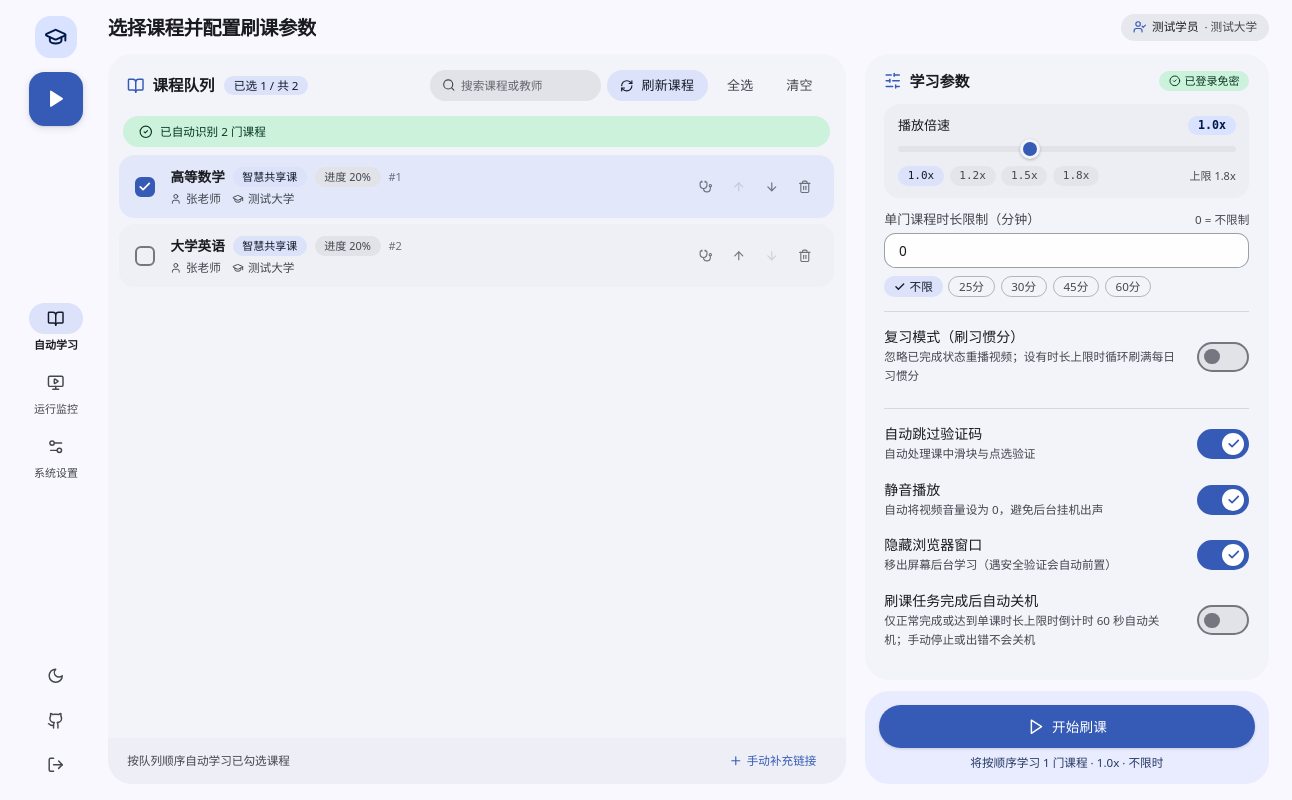
Test: App auto-save configuration › auto-saves after toggling a course and omits manual save buttons
The image size is (1292, 800).
Check: the heading "课程队列" is shown, box [127, 74, 214, 97]
Click the button named "选择课程 大学英语". click: {"x": 145, "y": 256}
box: [133, 244, 157, 268]
Wait 260 ms
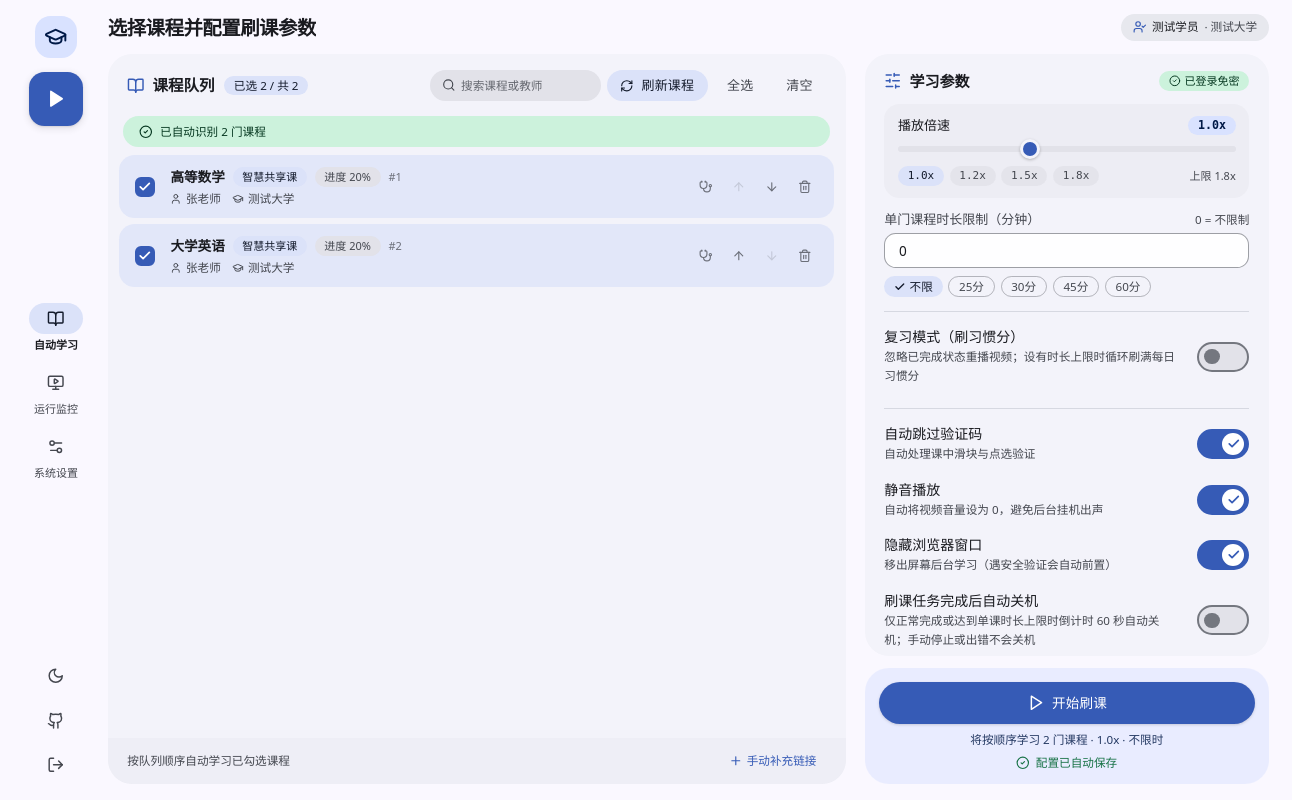
Check: the text "配置已自动保存" is shown, box [1016, 755, 1117, 770]
